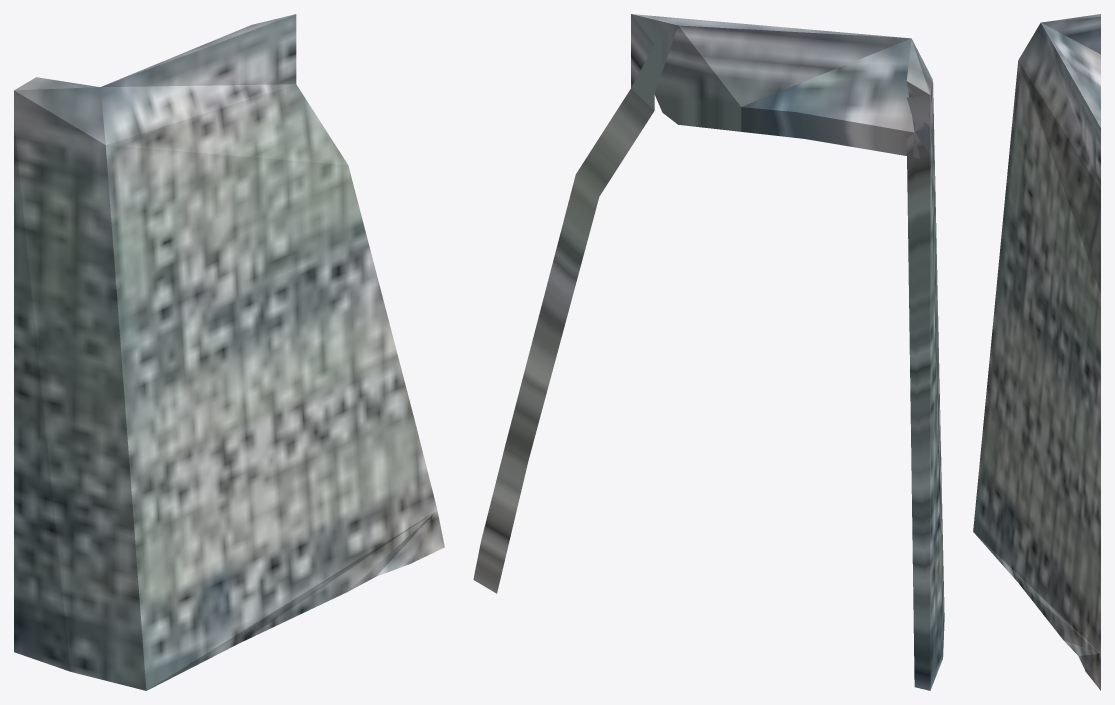
Rendered from chunk_-2_-4.glb.
3 views of the same model, side by side, from view 1: azimuth 30°, elevation 25°; view 2: azimuth 150°, elevation 25°; view 3: azimuth 270°, elevation 25° (orthographic). The views are drawn at different scales.
Visible parts, largest first — view 1: hero-chunk; view 2: hero-chunk; view 3: hero-chunk.
Part boxes in pixels (x1,y1,x2,y2): hero-chunk: (14,14,444,690); hero-chunk: (473,14,944,690); hero-chunk: (973,14,1100,690).
Bounding box in the file's own units: 17.86 × 23.19 × 5.23.
Materials: 1 (1 with a texture image).
